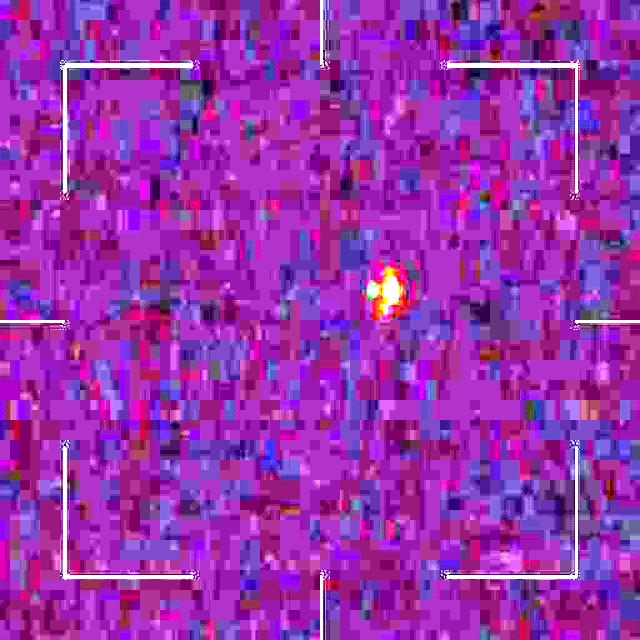bird: (366, 272, 401, 325)
